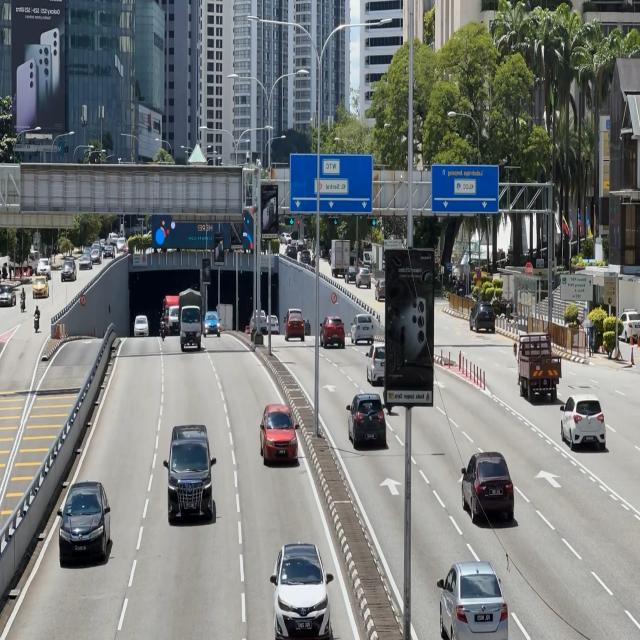Vehicle: (436, 556, 511, 640), (271, 539, 331, 639), (162, 419, 217, 518), (57, 472, 109, 570), (459, 451, 514, 532), (514, 323, 565, 406), (251, 400, 302, 473), (558, 391, 612, 457), (344, 387, 388, 453), (178, 284, 204, 354), (469, 296, 495, 338), (318, 313, 344, 350), (282, 303, 306, 343), (350, 311, 376, 345), (202, 310, 222, 339), (132, 313, 148, 339)
